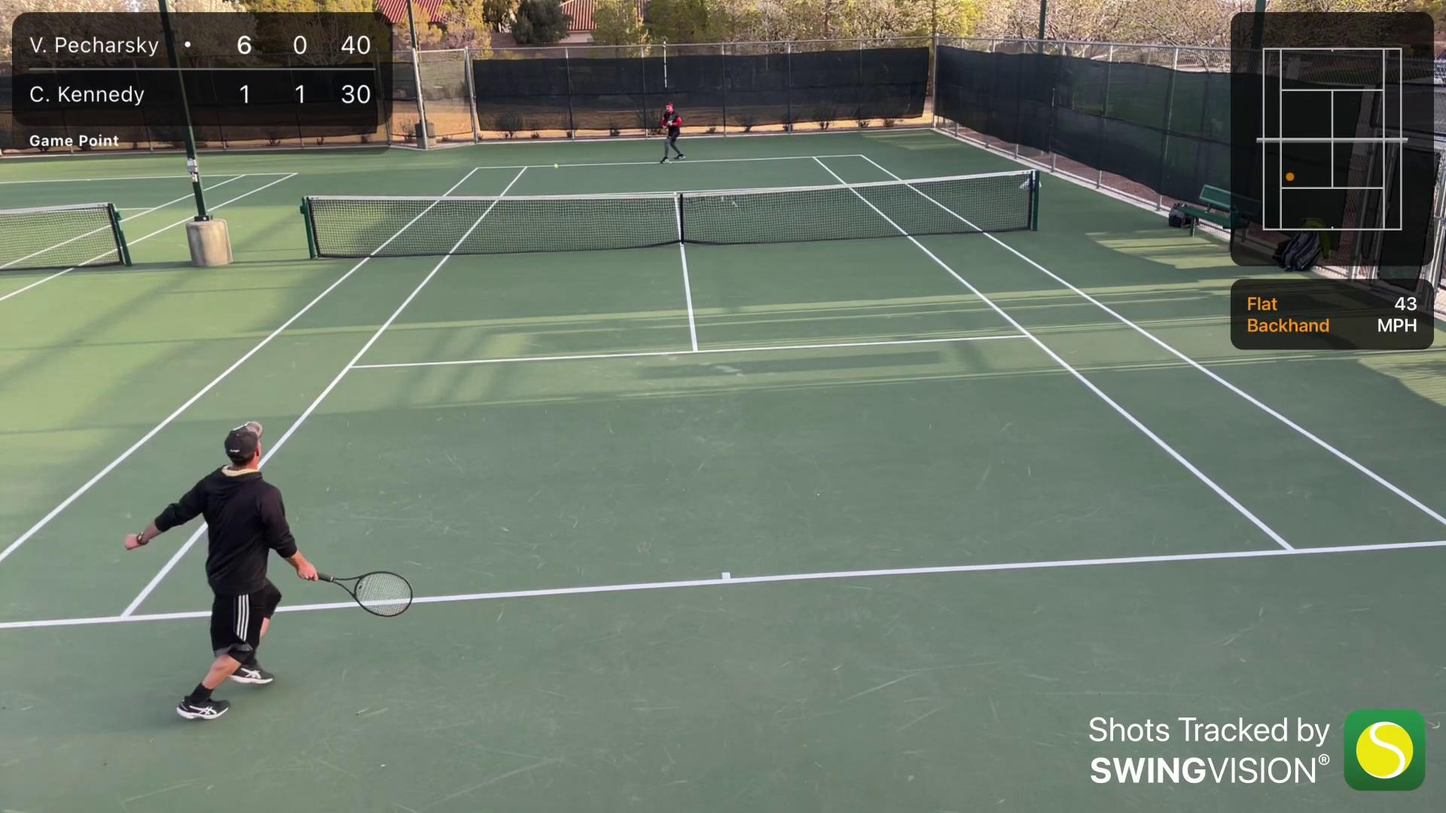ball: (552, 164, 561, 171)
